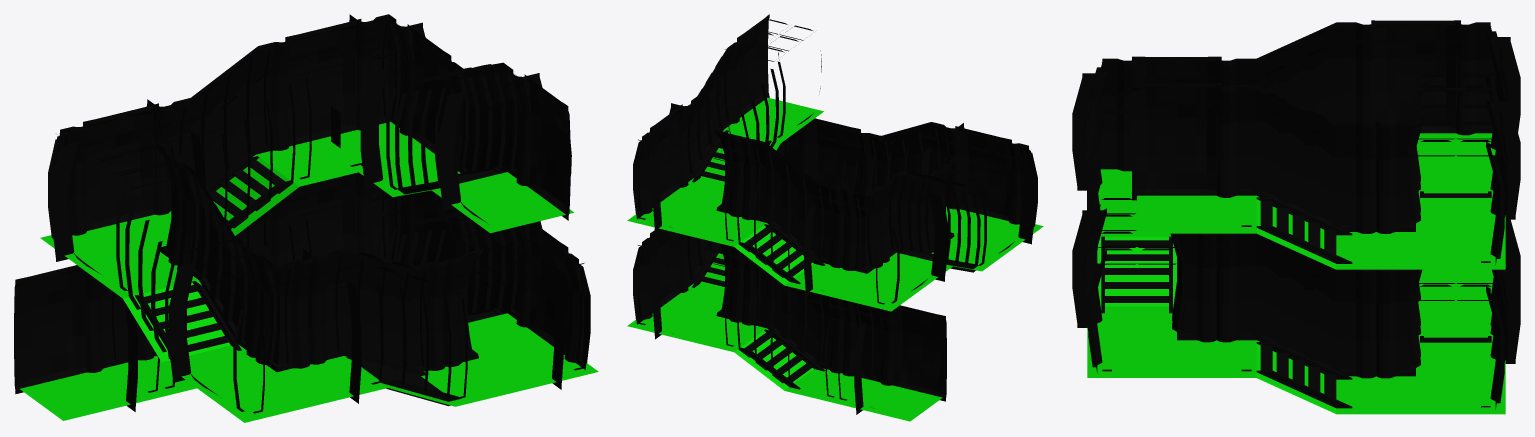
File: corridor_c.glb
The picture shows the model from 3 angles, left to right: view 1: azimuth 30°, elevation 25°; view 2: azimuth 150°, elevation 25°; view 3: azimuth 270°, elevation 25°; orthographic projection. The views are drawn at different scales.
Visible parts, largest first — view 1: Corridor_C_Wall_Panels, Corridor_C_Stone_Wall, Corridor_C_Floor, Corridor_C_Ceiling, Corridor_C_Stairs; view 2: Corridor_C_Wall_Panels, Corridor_C_Floor, Corridor_C_Stone_Wall, Corridor_C_Stairs, Corridor_C_Ceiling; view 3: Corridor_C_Wall_Panels, Corridor_C_Floor, Corridor_C_Stone_Wall, Corridor_C_Stairs, Corridor_C_Ceiling.
Boxes of the visible parts, x1=… form: Corridor_C_Wall_Panels: x1=48, y1=14, x2=590, y2=413; Corridor_C_Stone_Wall: x1=14, y1=19, x2=571, y2=394; Corridor_C_Floor: x1=20, y1=121, x2=598, y2=422; Corridor_C_Ceiling: x1=59, y1=17, x2=584, y2=309; Corridor_C_Stairs: x1=135, y1=156, x2=503, y2=406; Corridor_C_Wall_Panels: x1=633, y1=39, x2=1037, y2=414; Corridor_C_Floor: x1=627, y1=97, x2=1043, y2=421; Corridor_C_Stone_Wall: x1=649, y1=14, x2=1023, y2=401; Corridor_C_Stairs: x1=692, y1=130, x2=978, y2=389; Corridor_C_Ceiling: x1=638, y1=19, x2=1027, y2=332; Corridor_C_Wall_Panels: x1=1072, y1=22, x2=1520, y2=409; Corridor_C_Floor: x1=1087, y1=133, x2=1505, y2=414; Corridor_C_Stone_Wall: x1=1083, y1=20, x2=1509, y2=361; Corridor_C_Stairs: x1=1101, y1=191, x2=1491, y2=408; Corridor_C_Ceiling: x1=1097, y1=24, x2=1495, y2=300.
Size of what is drawn, in the model's own units: 11.75 by 9.25 by 11.25.
